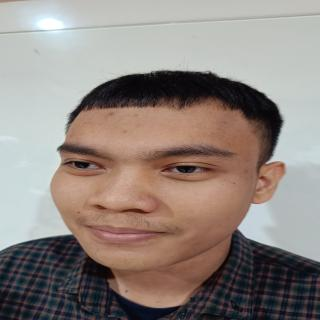Netral: (44, 95, 266, 278)
